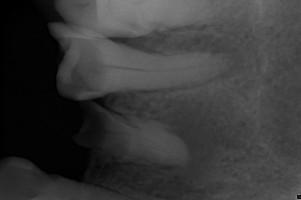Furcation Involvement: (138, 98, 222, 182), (211, 44, 249, 78)
